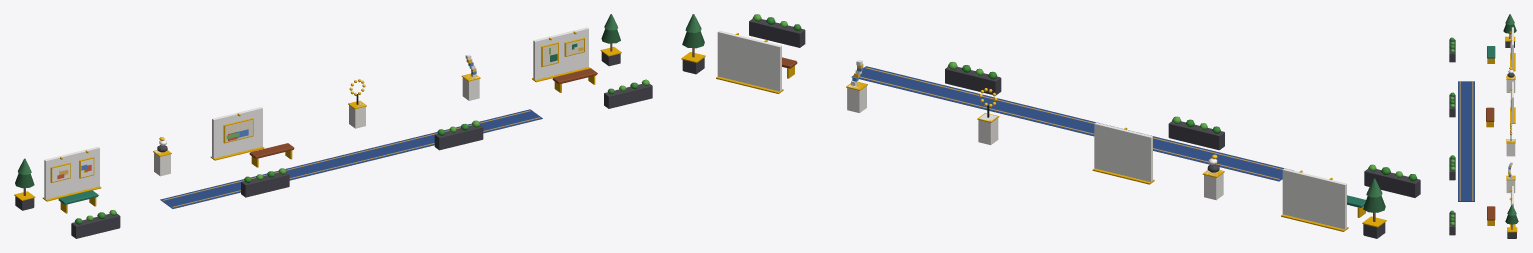
The model's file is einrichtung_galerie.glb.
3 views of the same model, side by side, from view 1: azimuth 30°, elevation 25°; view 2: azimuth 150°, elevation 25°; view 3: azimuth 270°, elevation 25° (orthographic). The views are drawn at different scales.
Visible parts, largest first — view 1: einrichtung_galerie; view 2: einrichtung_galerie; view 3: einrichtung_galerie.
Boxes of the visible parts, <box> form: einrichtung_galerie: <box>14,14,652,238</box>; einrichtung_galerie: <box>681,14,1420,238</box>; einrichtung_galerie: <box>1449,14,1518,238</box>.
Bounding box in the file's own units: 24.51 × 1.87 × 3.67.
